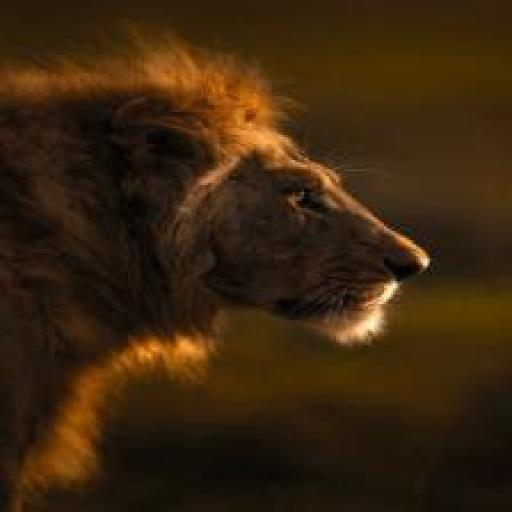lion: (7, 52, 446, 364)
